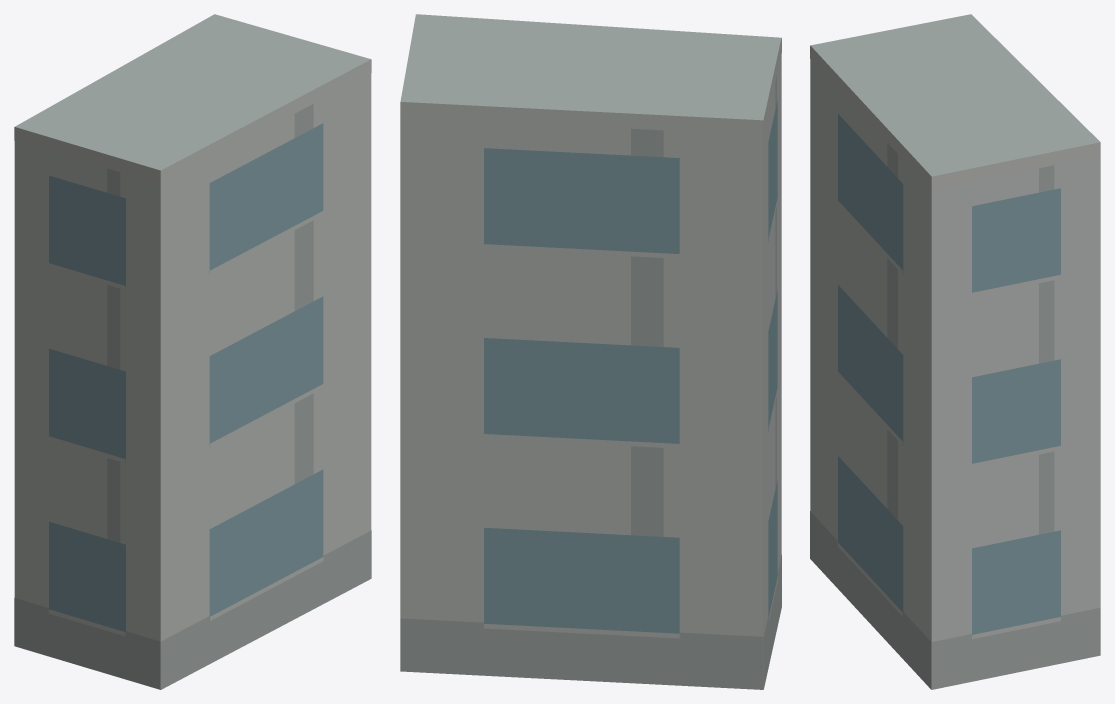
File: survey-upis-32520850.glb
The picture shows the model from 3 angles, left to right: view 1: azimuth 30°, elevation 25°; view 2: azimuth 150°, elevation 25°; view 3: azimuth 270°, elevation 25°; orthographic projection. The views are drawn at different scales.
Parts seen in each view (by area): view 1: survey-upis-32520850.tmp; view 2: survey-upis-32520850.tmp; view 3: survey-upis-32520850.tmp.
Boxes of the visible parts, <box> form: survey-upis-32520850.tmp: <box>14,14,371,689</box>; survey-upis-32520850.tmp: <box>400,14,781,689</box>; survey-upis-32520850.tmp: <box>810,14,1100,689</box>.
Size of the model in its own units: 6.22 by 9.15 by 4.7.
